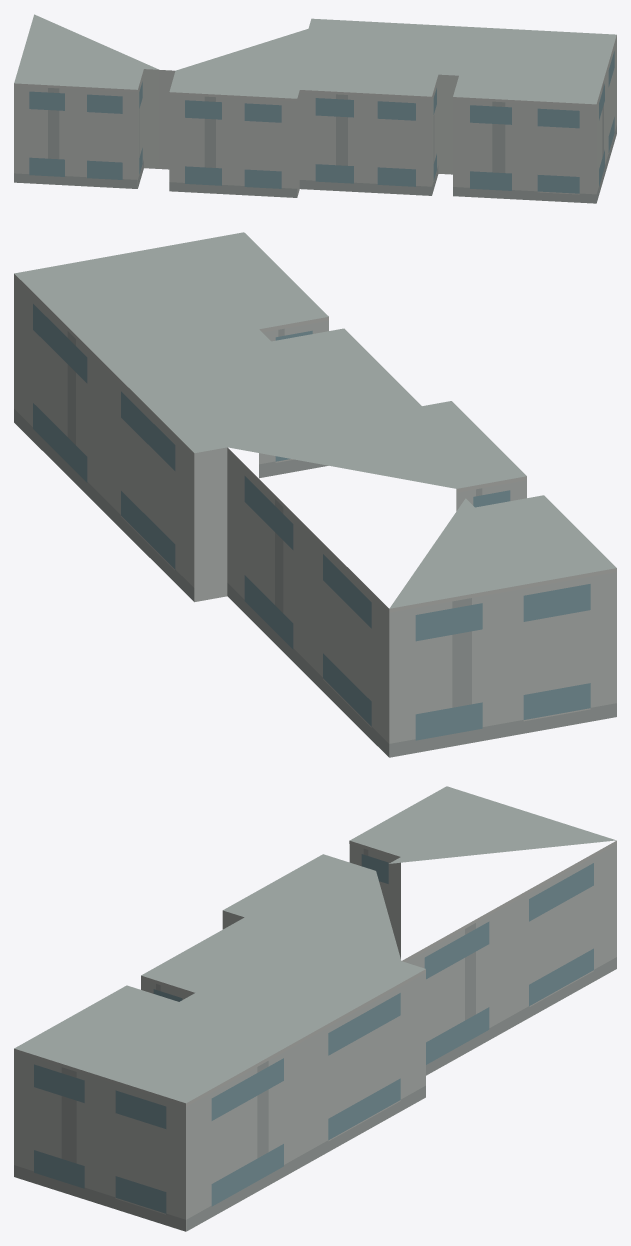
File: residential-d9f7dc1c-2555-4465-9ce1-d04ad335a4e7.glb
3 renders of one model, top to bottom at view 1: azimuth 30°, elevation 25°; view 2: azimuth 150°, elevation 25°; view 3: azimuth 270°, elevation 25°, orthographic. The views are drawn at different scales.
Parts seen in each view (by area): view 1: residential-d9f7dc1c-2555-4465-9ce1-d04ad335a4e7.tmp; view 2: residential-d9f7dc1c-2555-4465-9ce1-d04ad335a4e7.tmp; view 3: residential-d9f7dc1c-2555-4465-9ce1-d04ad335a4e7.tmp.
Boxes of the visible parts, x1,y1,x2,y2 form: residential-d9f7dc1c-2555-4465-9ce1-d04ad335a4e7.tmp: [14, 14, 616, 203]; residential-d9f7dc1c-2555-4465-9ce1-d04ad335a4e7.tmp: [14, 232, 616, 757]; residential-d9f7dc1c-2555-4465-9ce1-d04ad335a4e7.tmp: [14, 786, 616, 1231].
Bounding box in the file's own units: 48.48 × 9.15 × 38.94.
